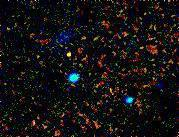star: (56, 37, 86, 67)
